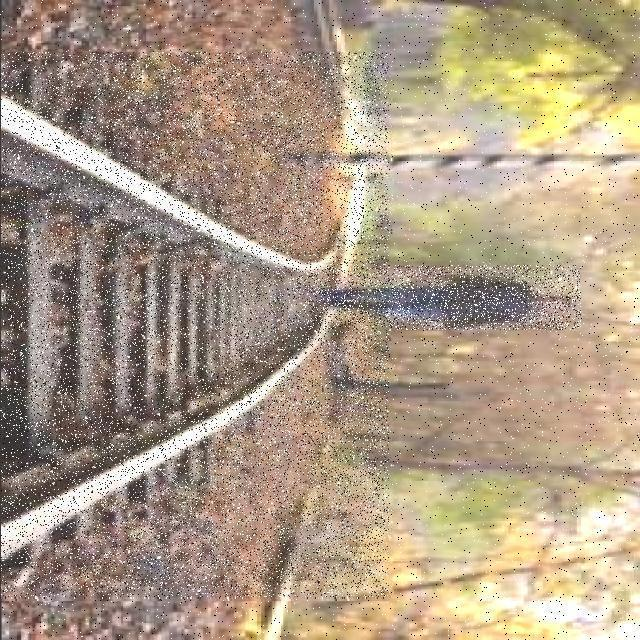rail: (2, 54, 390, 599)
